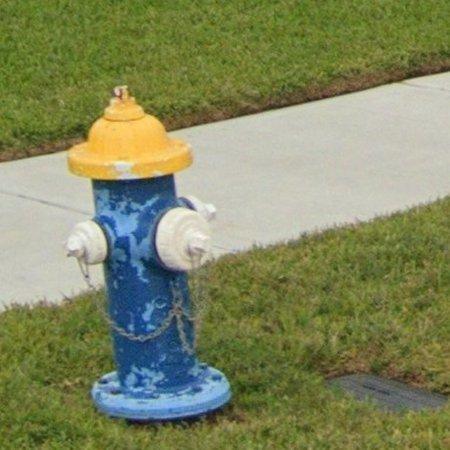a fire hydrant: (65, 86, 231, 423)
